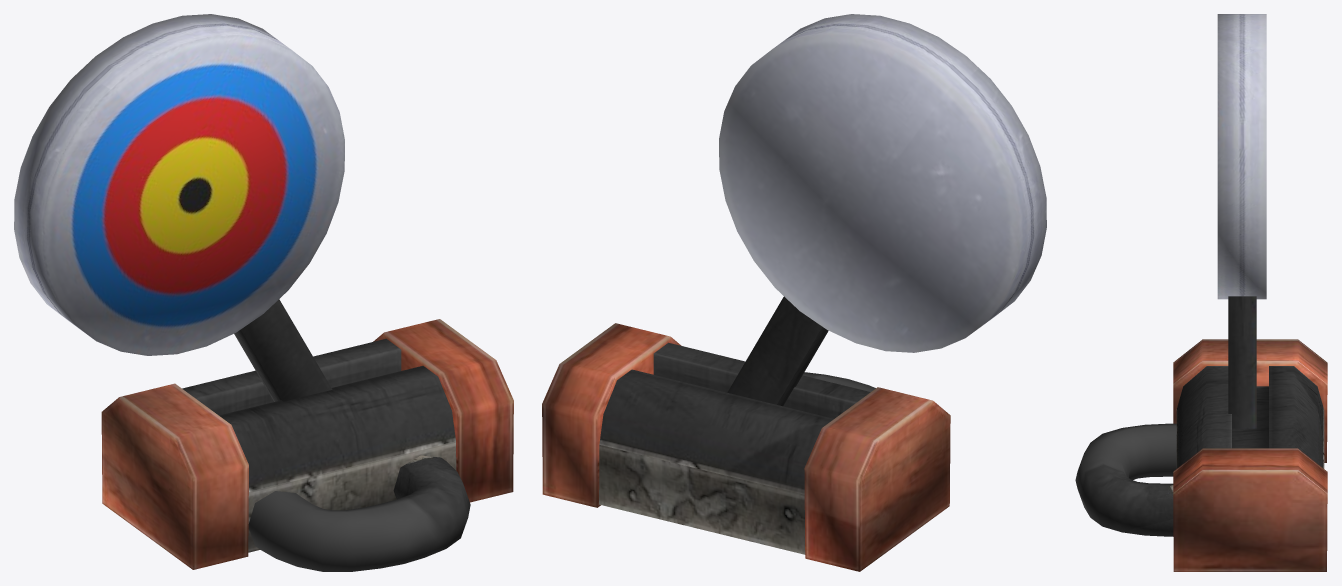
Rendered from tombolaso-target-3.glb.
The picture shows the model from 3 angles, left to right: view 1: azimuth 30°, elevation 25°; view 2: azimuth 150°, elevation 25°; view 3: azimuth 270°, elevation 25°; orthographic projection. The views are drawn at different scales.
Parts seen in each view (by area): view 1: TargetsTextureRT.004, 01_Props.007; view 2: TargetsTextureRT.004, 01_Props.007; view 3: 01_Props.007, TargetsTextureRT.004.
Part boxes in pixels (left/top/right/bottom): TargetsTextureRT.004: left=14, top=14, right=344, bottom=401; 01_Props.007: left=101, top=319, right=513, bottom=571; TargetsTextureRT.004: left=719, top=14, right=1046, bottom=406; 01_Props.007: left=542, top=323, right=950, bottom=571; 01_Props.007: left=1075, top=339, right=1327, bottom=571; TargetsTextureRT.004: left=1217, top=14, right=1266, bottom=428.
Size of the model in its own units: 2.52 by 2.72 by 1.46.
1 material, 1 textured.
